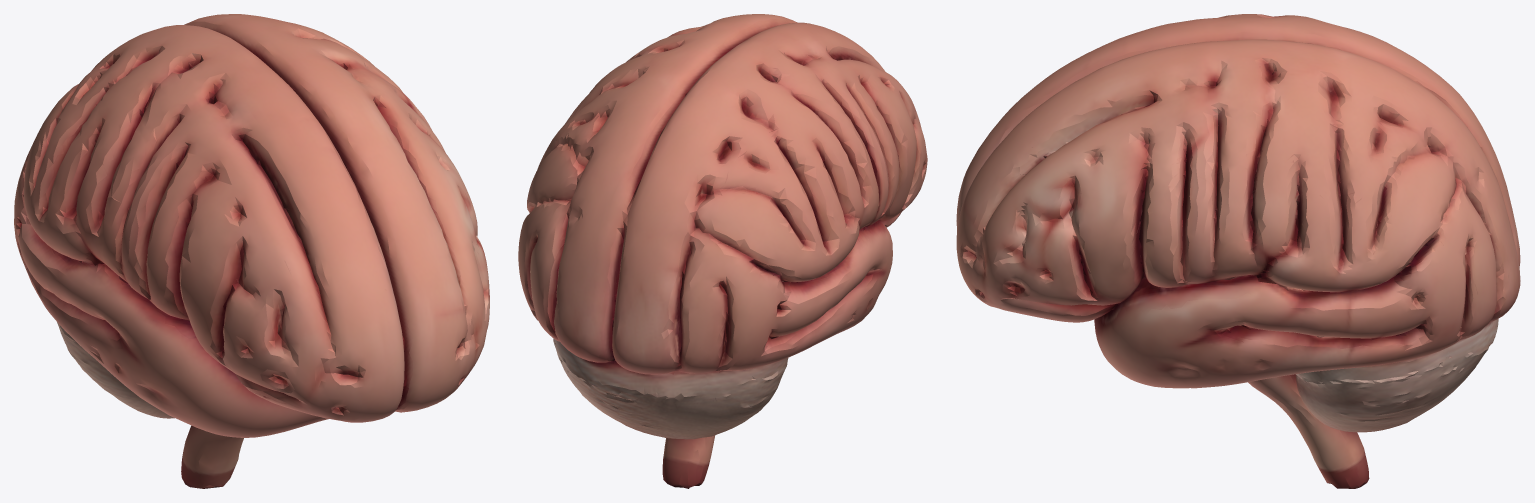
The model's file is dog_brain.glb.
The picture shows the model from 3 angles, left to right: view 1: azimuth 30°, elevation 25°; view 2: azimuth 150°, elevation 25°; view 3: azimuth 270°, elevation 25°; orthographic projection. The views are drawn at different scales.
Visible parts, largest first — view 1: model; view 2: model; view 3: model.
Part boxes in pixels (bbox=[...]): model: bbox=[14, 14, 489, 488]; model: bbox=[518, 14, 927, 488]; model: bbox=[956, 14, 1520, 488].
Size of the model in its own units: 1.27 by 1.66 by 1.9.
1 material, 1 textured.
